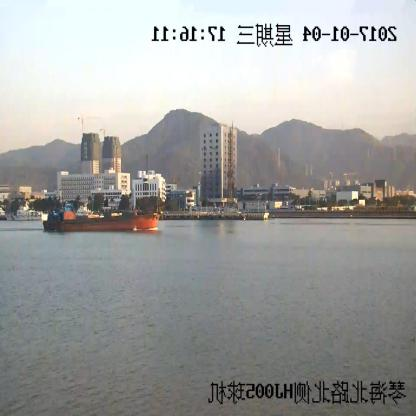Bulk Carrier: (43, 192, 192, 232)
